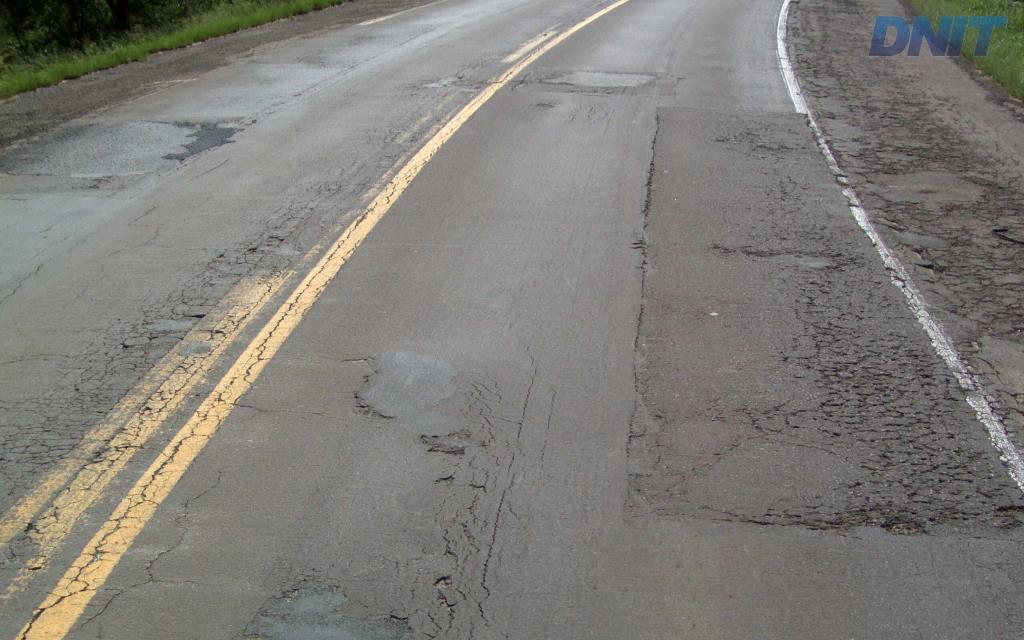crack: (740, 443, 988, 535), (844, 363, 906, 424), (814, 349, 882, 402), (881, 410, 943, 446), (797, 321, 841, 369), (892, 346, 936, 386), (984, 500, 1023, 532)
pothole: (881, 516, 925, 537), (987, 499, 1022, 524)
